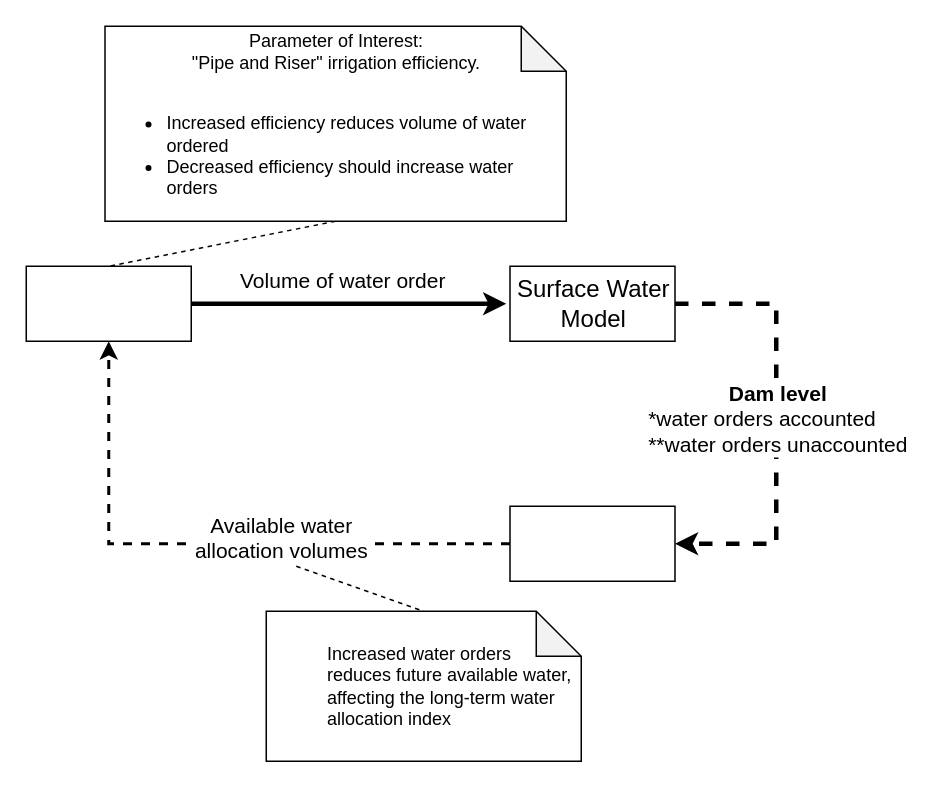
Image size: 933x788. Some labels were removed from this diagram. The centre of each missing label's shape, as x and y in pixels:
"Farm Model" belongs at point 108,303.
"Policy Model" belongs at point 591,543.
